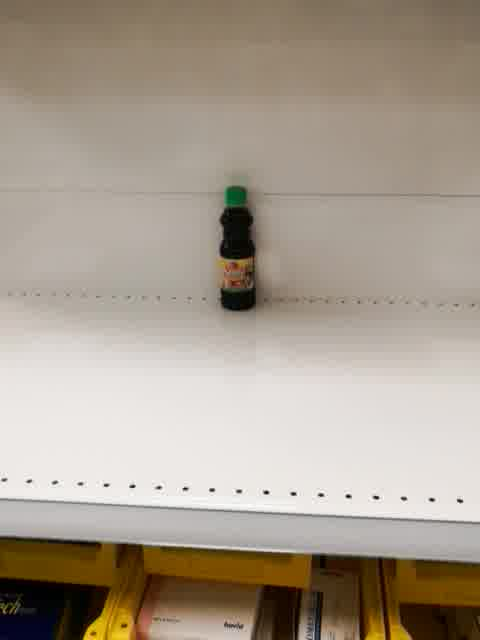cookingoil: (216, 183, 259, 313)
